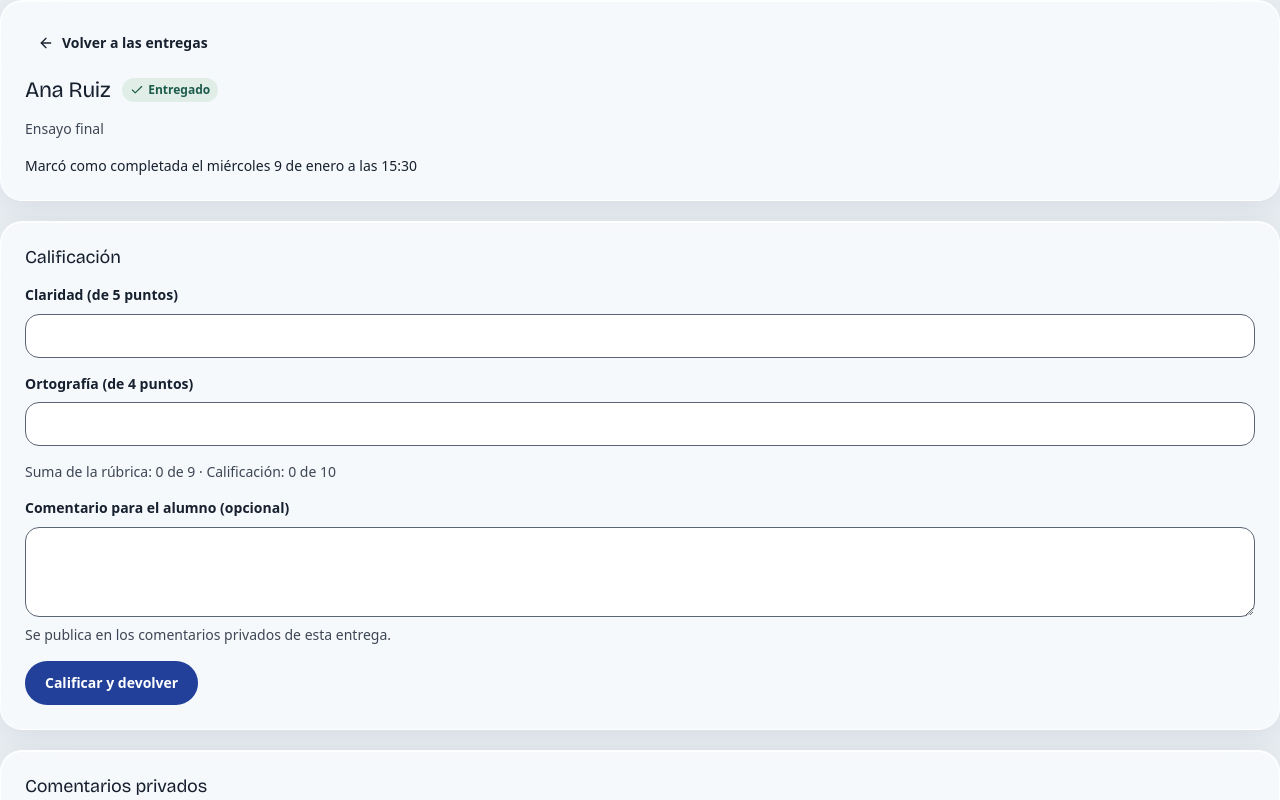
Test case: panel con rúbrica (CAL-1C01) › CAL-1C01: validación local (vacío): no pide nada, marca el campo con ErrorDeCampo y lleva el foco al primer error
expect the field labelled "Claridad (de 5 puntos)" is shown: met, box x1=25 y1=314 x2=1255 y2=358
Clear the field labelled "Ortografía (de 4 puntos)" at (640, 424), box x1=25 y1=402 x2=1255 y2=446
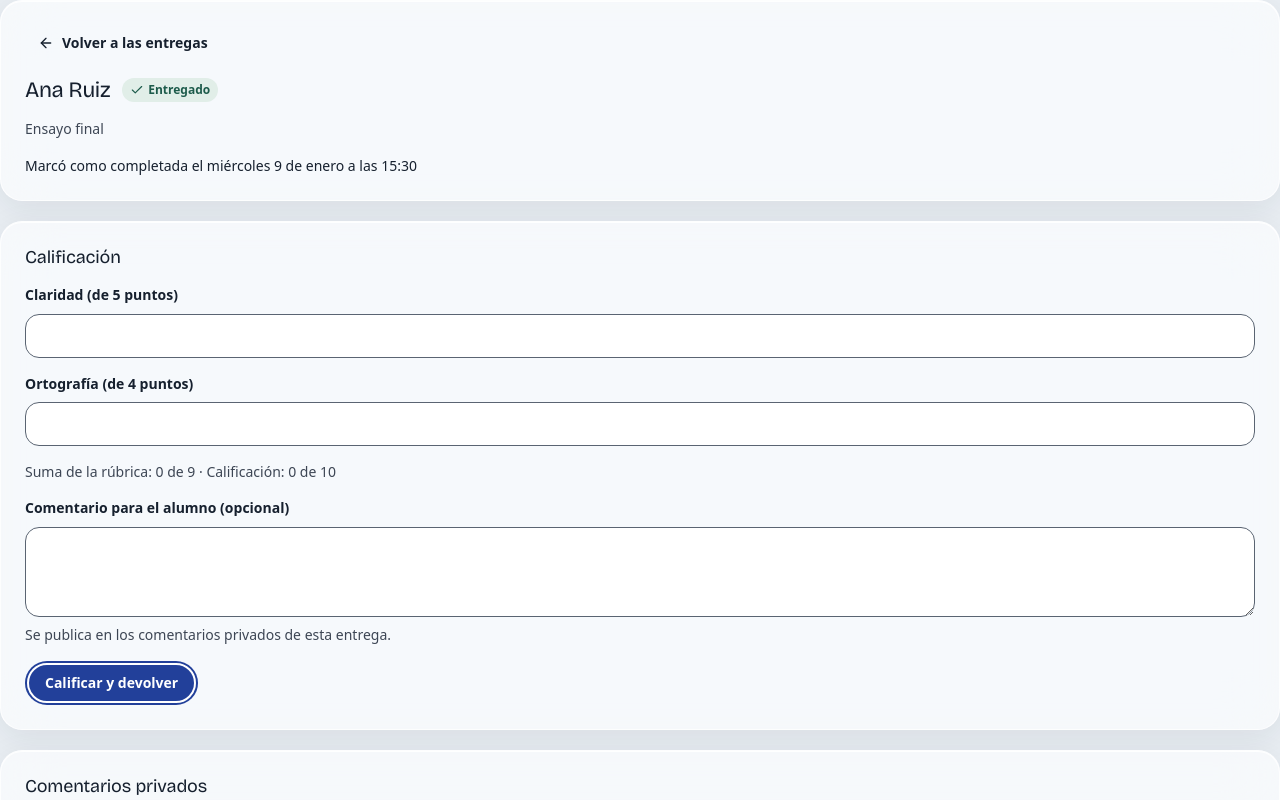
Click the button "Calificar y devolver" at (112, 683), box x1=25 y1=661 x2=198 y2=705
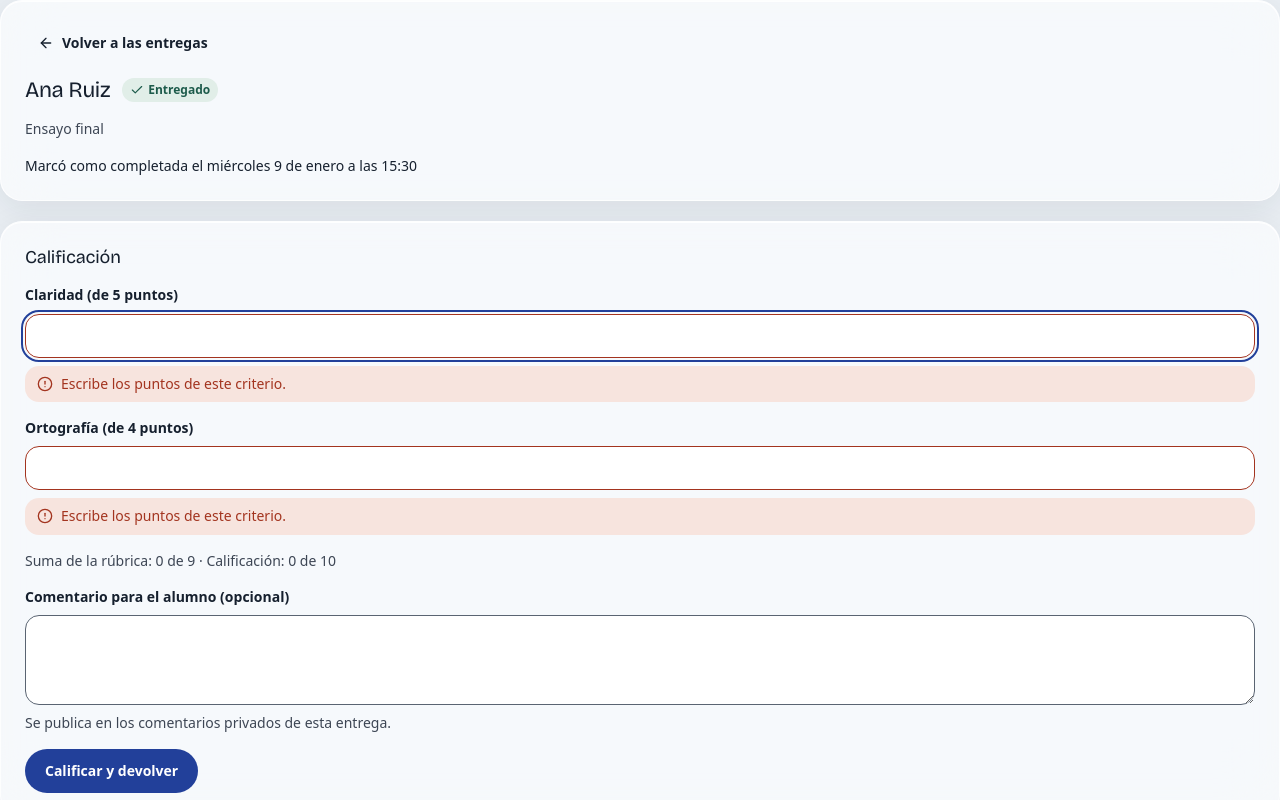
expect the element showing "Escribe los puntos de este criterio." below "Claridad (de 5 puntos)" is shown: met, box x1=61 y1=374 x2=286 y2=393
